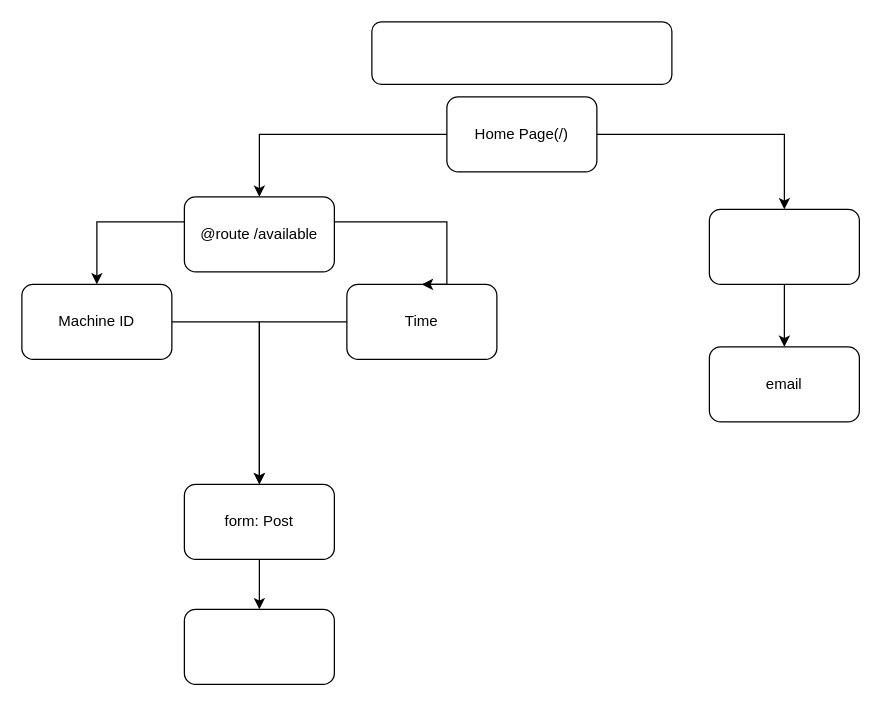
The diagram is 881 pixels wide and 706 high, and some of its shapes have lost their labels. Here are the shapes that lost their labels. From the top down, the centre of each, then its label:
At [521,52]: "Data Structure".
At [783,246]: "@route /feedback".
At [258,646]: "@post /available def available()".
